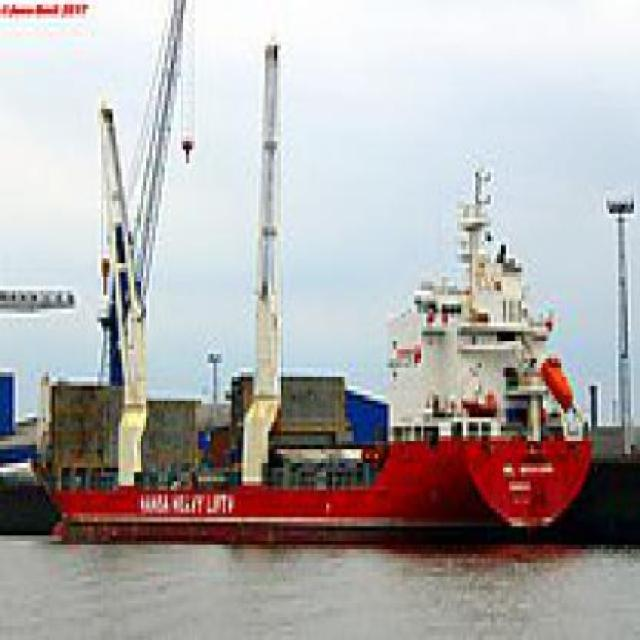container: (26, 182, 601, 555)
